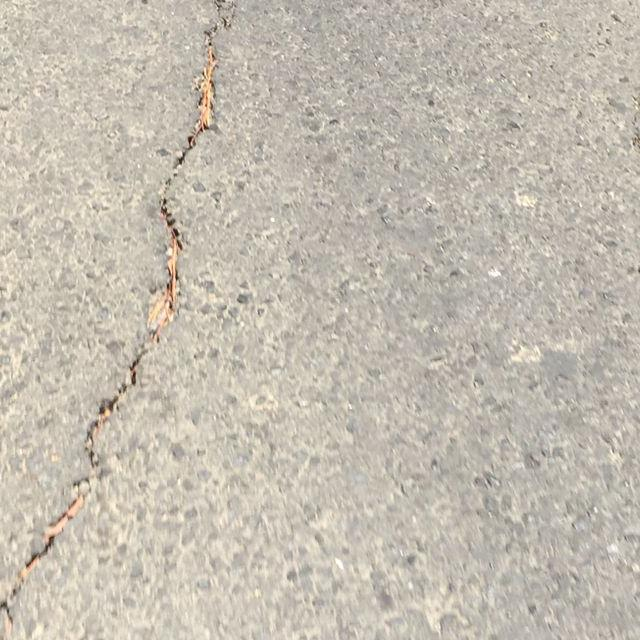retak_memanjang: (0, 0, 263, 640), (493, 0, 640, 600)
